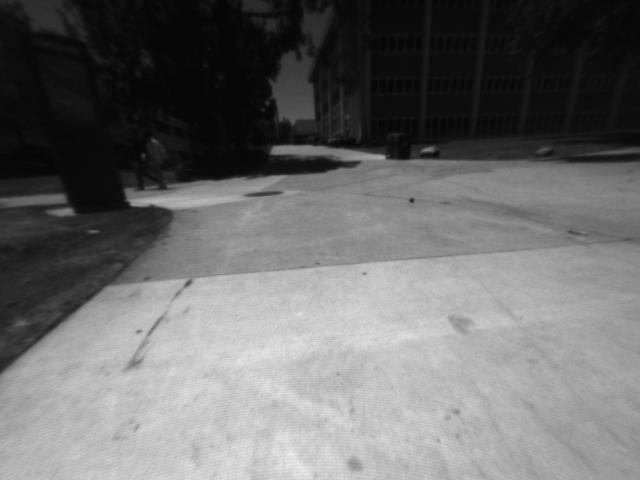dogtoy: (403, 192, 422, 207)
